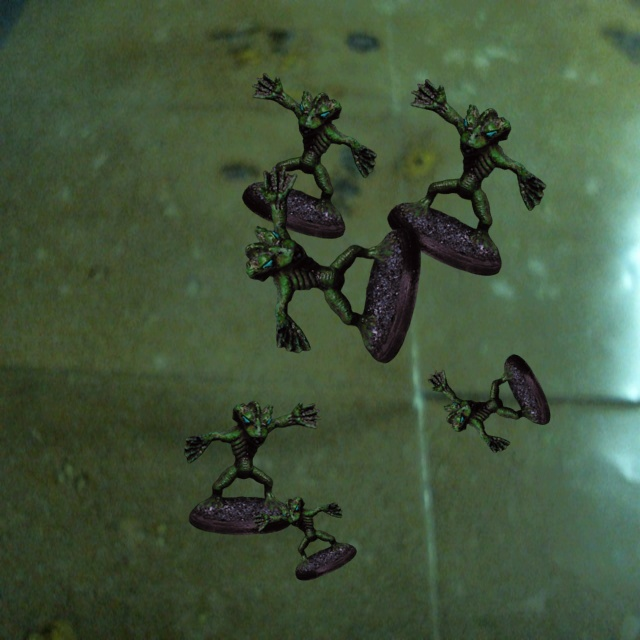pieza_juego: (245, 166, 420, 362), (387, 79, 545, 275), (242, 73, 376, 238), (184, 401, 321, 534), (427, 354, 550, 453), (252, 497, 356, 580)
